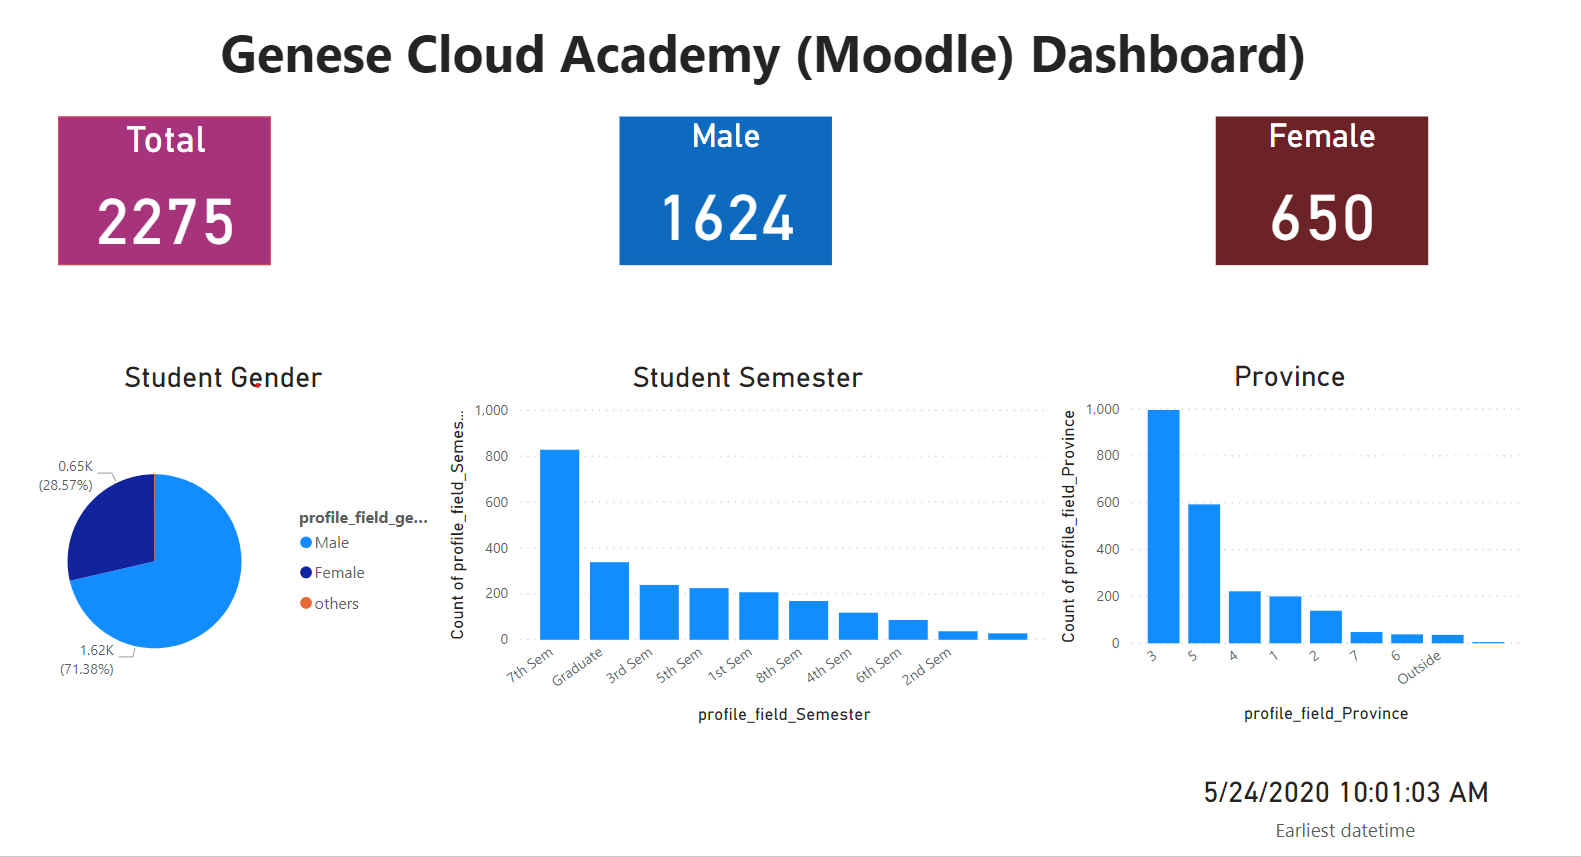

This screenshot's page, from the dashboard's own definition file:
{"tool":"powerbi","page":{"name":"Dashboard","canvas":[1280,720],"ordinal":0},"visuals":[{"type":"pieChart","title":"Student Gender","fields":{"Category":["user_latest.profile_field_gender1"],"Series":["user_latest.profile_field_gender1"],"Y":["CountNonNull(user_latest.profile_field_gender)"]},"box":[2.1,303.2,367.2,310.5],"z":0},{"type":"columnChart","title":"Student Semester","fields":{"Category":["user_latest.profile_field_Semester1"],"Y":["CountNonNull(user_latest.profile_field_Semester)1"]},"box":[369.4,303.2,513.4,310.5],"z":1000},{"type":"columnChart","title":"Province","fields":{"Category":["user_latest.profile_field_Province1"],"Y":["CountNonNull(user_latest.profile_field_Province)1"]},"box":[882.3,302.7,397.4,310.5],"z":2000},{"type":"card","title":"Total","fields":{"Values":["CountNonNull(user_latest.id)"]},"box":[47.1,98.8,178.8,124.4],"z":3000},{"type":"card","title":"Male","fields":{"Values":["CountNonNull(user_latest.profile_field_gender)"]},"box":[518.2,98.8,178.8,124.4],"z":4000},{"type":"card","title":"Female","fields":{"Values":["CountNonNull(user_latest.profile_field_gender)"]},"box":[1019.5,98.8,178.8,124.4],"z":5000},{"type":"textbox","box":[0,10.9,1279.3,72.5],"z":6000},{"type":"card","fields":{"Values":["Min(Kathmandu.datetime)"]},"box":[994.2,641.5,268.2,68.9],"z":7000}]}

Visuals, with their boxes on the page's 1280x720 design canvas (x1, y1, x2, y2). These are canvas units, not pixel positions in the 1581x857 screenshot, which may show the page scaled, cropped or inside an application window:
"Student Gender" pieChart: {"x1": 2, "y1": 303, "x2": 369, "y2": 614}
"Student Semester" columnChart: {"x1": 369, "y1": 303, "x2": 883, "y2": 614}
"Province" columnChart: {"x1": 882, "y1": 303, "x2": 1280, "y2": 613}
"Total" card: {"x1": 47, "y1": 99, "x2": 226, "y2": 223}
"Male" card: {"x1": 518, "y1": 99, "x2": 697, "y2": 223}
"Female" card: {"x1": 1020, "y1": 99, "x2": 1198, "y2": 223}
textbox: {"x1": 0, "y1": 11, "x2": 1279, "y2": 83}
card - Min(Kathmandu.datetime): {"x1": 994, "y1": 642, "x2": 1262, "y2": 710}
